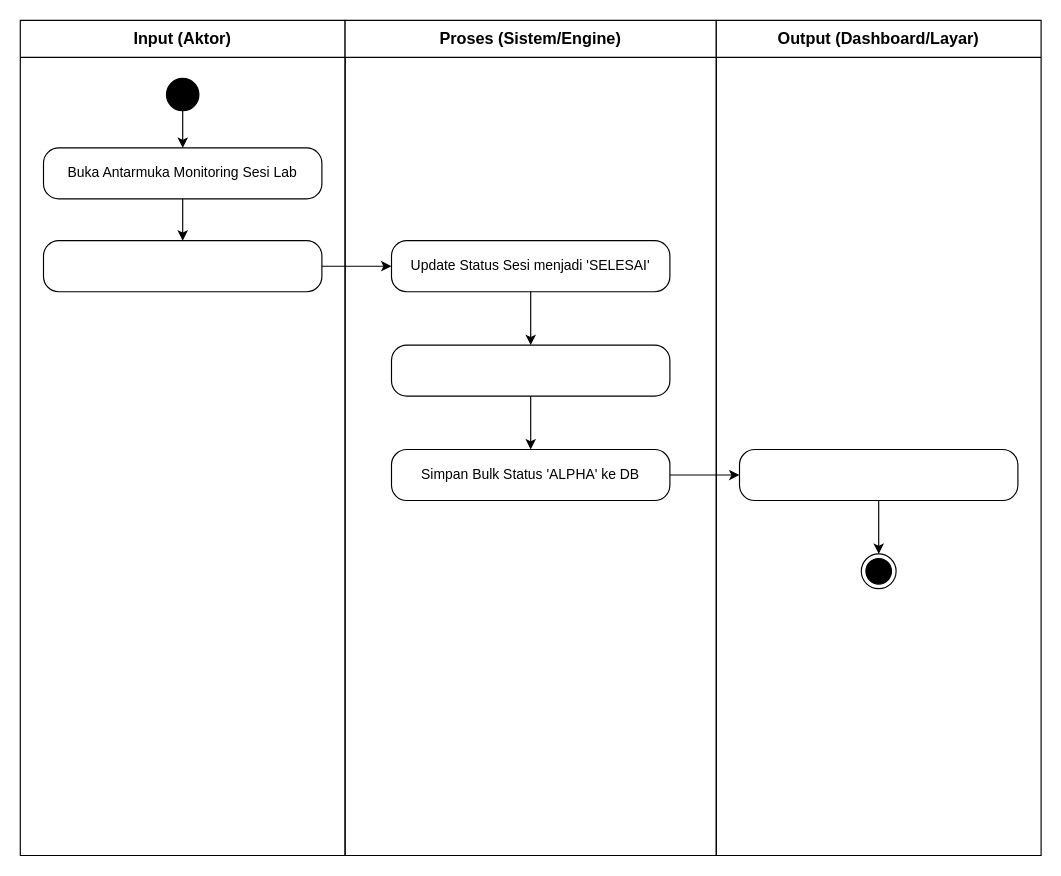
Image size: 1061x876. Some labels were removed from this diagram. The centre of each missing label's shape, as x and y in pixels:
Jalankan Auto-Alpha (Cari Mhs Absen): point (530, 370)
Klik Tombol Tutup Sesi Presensi: point (182, 266)
Tampilkan Ringkasan Rekap Sesi Lab: point (878, 474)
